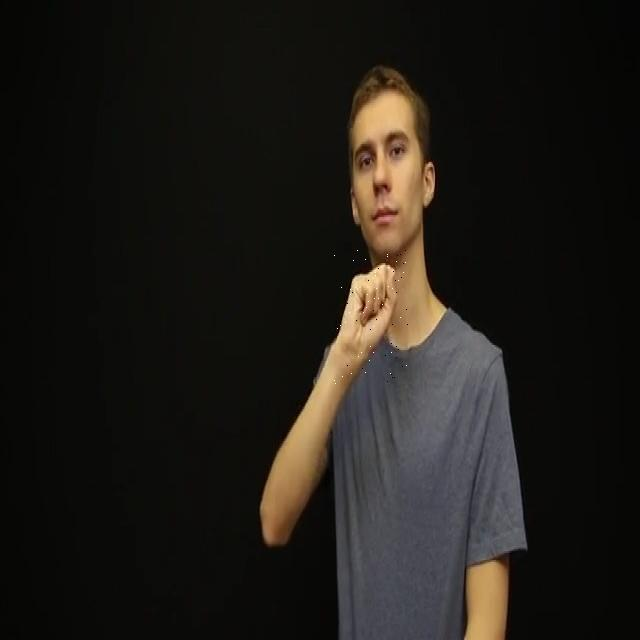icecream: (334, 247, 408, 385)
